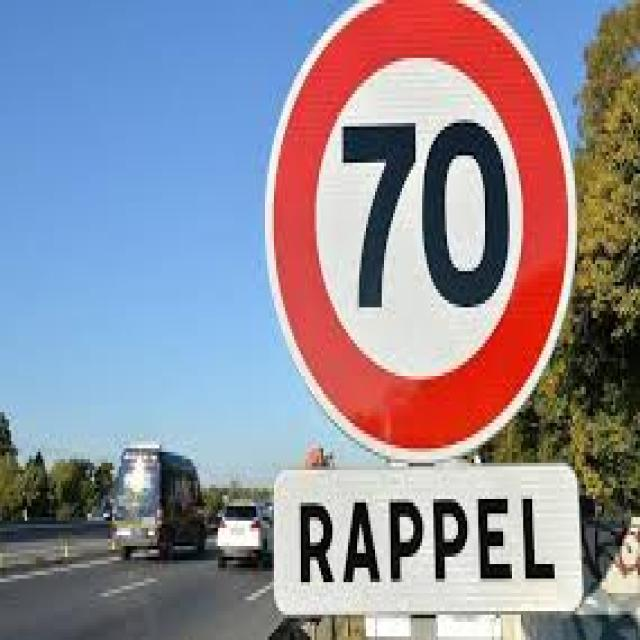speed: (265, 3, 579, 456)
